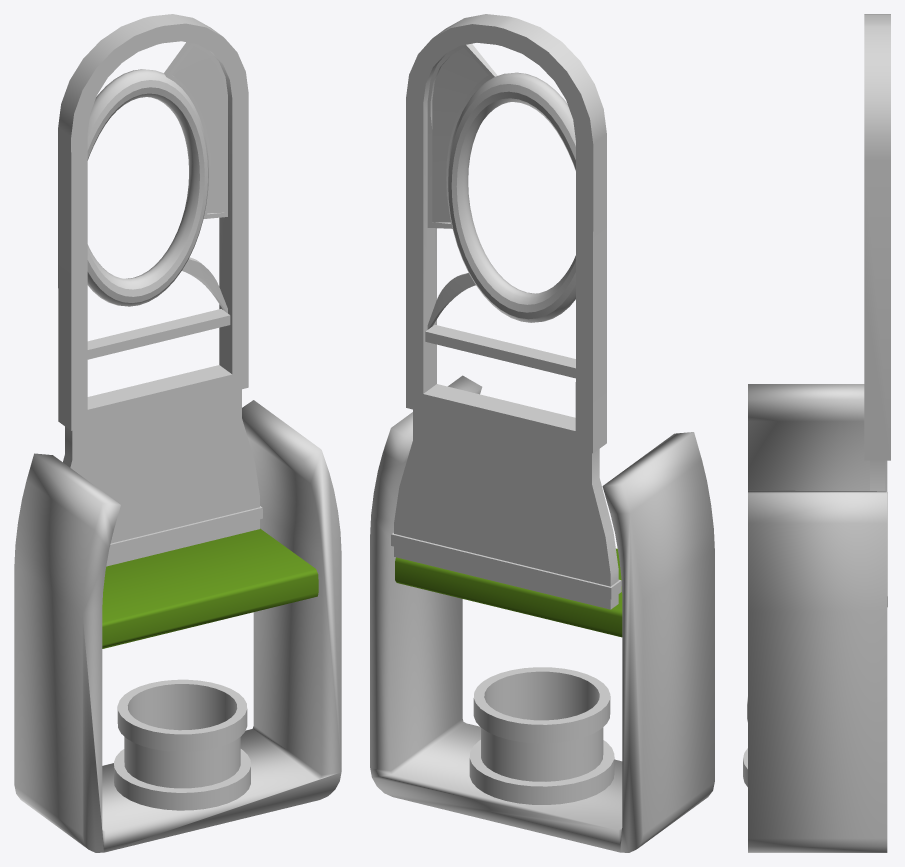
Rendered from WallOrnament_Style_02.fbx.
3 views of the same model, side by side, from view 1: azimuth 30°, elevation 25°; view 2: azimuth 150°, elevation 25°; view 3: azimuth 270°, elevation 25° (orthographic). The views are drawn at different scales.
Parts seen in each view (by area): view 1: SetA_WallOrnament_Style_02; view 2: SetA_WallOrnament_Style_02; view 3: SetA_WallOrnament_Style_02.
Part boxes in pixels (box(x1,y1,x2,y2)): SetA_WallOrnament_Style_02: box(14, 14, 341, 852); SetA_WallOrnament_Style_02: box(370, 14, 714, 852); SetA_WallOrnament_Style_02: box(743, 14, 890, 852).
Bounding box in the file's own units: 0.1258 × 0.3513 × 0.0609.
